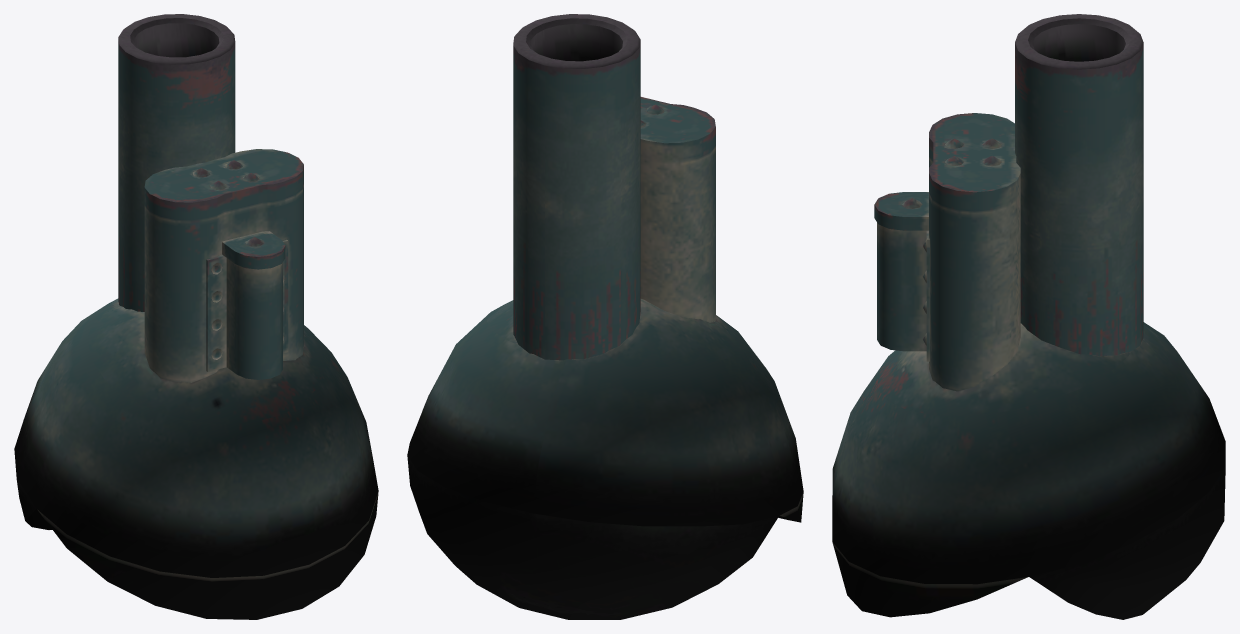
File: Gun_01.glb
3 views of the same model, side by side, from view 1: azimuth 30°, elevation 25°; view 2: azimuth 150°, elevation 25°; view 3: azimuth 270°, elevation 25° (orthographic). The views are drawn at different scales.
Parts seen in each view (by area): view 1: set_0_group_0; view 2: set_0_group_0; view 3: set_0_group_0.
Part boxes in pixels (x1=…): set_0_group_0: x1=14, y1=14, x2=378, y2=619; set_0_group_0: x1=407, y1=14, x2=803, y2=619; set_0_group_0: x1=832, y1=14, x2=1225, y2=619.
Bounding box in the file's own units: 0.3238 × 0.4859 × 0.3156.
Materials: 1 (1 with a texture image).
